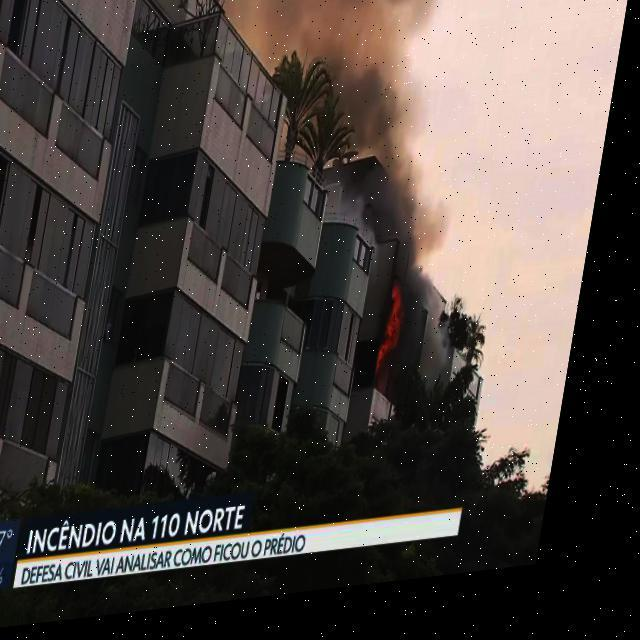Fire: (386, 290, 422, 393)
